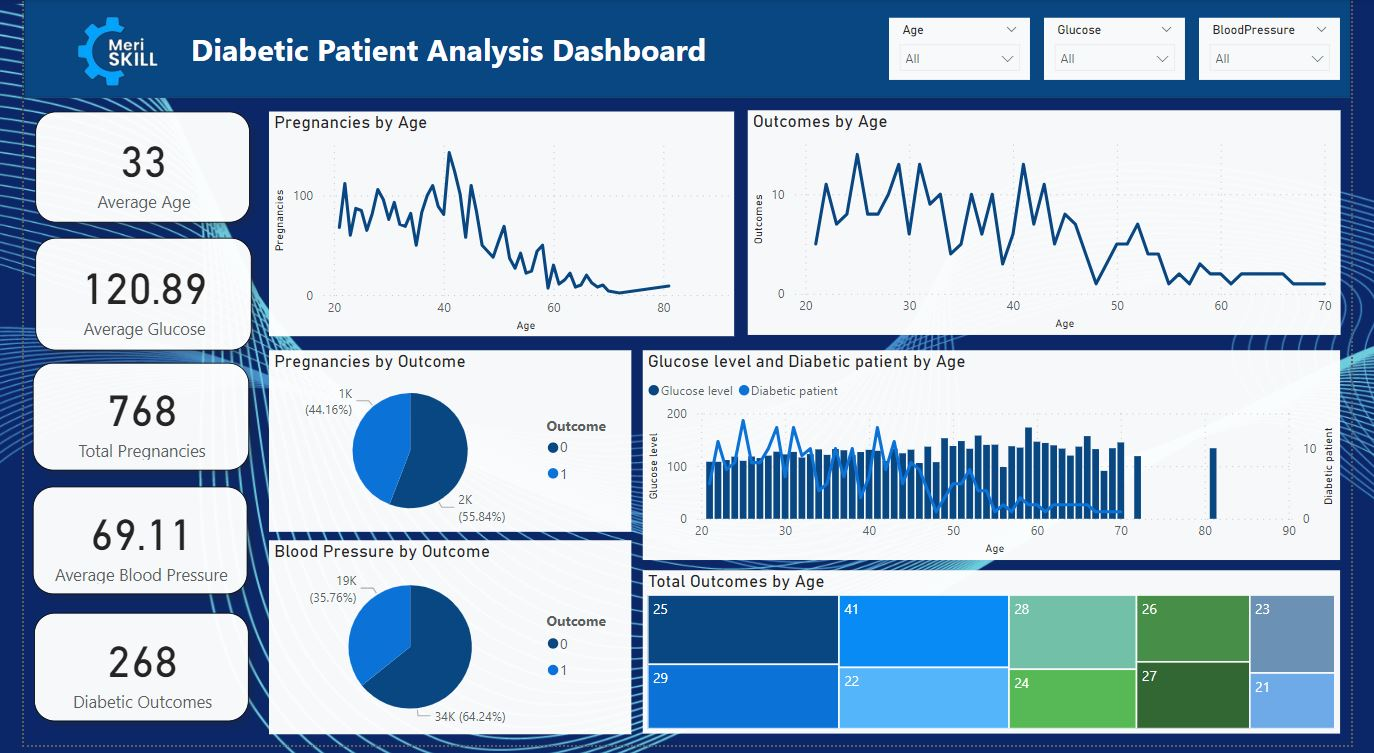

The dashboard page shown, as its layout file describes it:
{"tool":"powerbi","page":{"name":"Page 1","canvas":[1280,720],"ordinal":0},"visuals":[{"type":"card","fields":{"Values":["Avg(diabetes.BloodPressure)"]},"box":[8.4,470.4,207.4,103.7],"z":0},{"type":"card","fields":{"Values":["Avg(diabetes.Glucose)"]},"box":[10.9,230.4,208.6,108.5],"z":1},{"type":"card","fields":{"Values":["CountNonNull(diabetes.Pregnancies)"]},"box":[8.4,351,208.6,103.7],"z":2},{"type":"card","fields":{"Values":["diabetes.Average Age"]},"box":[10.9,108.5,207.4,107.3],"z":3},{"type":"card","fields":{"Values":["diabetes.Total Outcomes"]},"box":[9.6,592.2,207.4,104.9],"z":4},{"type":"shape","box":[0,0,1279.6,95.3],"z":5},{"type":"image","box":[43.4,3.6,94.1,88],"z":6},{"type":"lineChart","fields":{"Y":["Sum(diabetes.Pregnancies)"],"Category":["diabetes.Age"]},"box":[236.4,108.5,448.6,217.1],"z":7},{"type":"lineChart","fields":{"Y":["diabetes.Total Outcomes"],"Category":["diabetes.Age"]},"box":[698.3,107.3,571.7,217.1],"z":8},{"type":"pieChart","fields":{"Y":["Sum(diabetes.Pregnancies)"],"Category":["diabetes.Outcome"]},"box":[236.4,338.9,349.7,174.9],"z":9},{"type":"pieChart","fields":{"Category":["diabetes.Outcome"],"Y":["Sum(diabetes.BloodPressure)"]},"box":[236.4,522.2,349.7,186.9],"z":10},{"type":"lineClusteredColumnComboChart","fields":{"Category":["diabetes.Age"],"Y":["Avg(diabetes.Glucose)"],"Y2":["diabetes.Total Outcomes"]},"box":[597,338.9,673,202.6],"z":11},{"type":"treemap","fields":{"Values":["diabetes.Total Outcomes"],"Group":["diabetes.Age"]},"box":[597,551.2,673,158],"z":12},{"type":"slicer","fields":{"Values":["diabetes.Age"]},"box":[834.6,18.1,136.3,60.3],"z":13},{"type":"slicer","fields":{"Values":["diabetes.Glucose"]},"box":[984.1,18.1,136.3,60.3],"z":14},{"type":"slicer","fields":{"Values":["diabetes.BloodPressure"]},"box":[1133.7,18.1,136.3,60.3],"z":15}]}

Visuals, with their boxes in screenshot pixels (x1, y1, x2, y2), scaled from the page's 1280x720 canvas onto the 1374x753 screenshot:
card - Avg(diabetes.BloodPressure): [left=9, top=492, right=232, bottom=600]
card - Avg(diabetes.Glucose): [left=12, top=241, right=236, bottom=354]
card - CountNonNull(diabetes.Pregnancies): [left=9, top=367, right=233, bottom=476]
card - diabetes.Average Age: [left=12, top=113, right=234, bottom=226]
card - diabetes.Total Outcomes: [left=10, top=619, right=233, bottom=729]
shape: [left=0, top=0, right=1373, bottom=100]
image: [left=47, top=4, right=148, bottom=96]
lineChart - Sum(diabetes.Pregnancies) x diabetes.Age: [left=254, top=113, right=735, bottom=341]
lineChart - diabetes.Total Outcomes x diabetes.Age: [left=750, top=112, right=1363, bottom=339]
pieChart - Sum(diabetes.Pregnancies) x diabetes.Outcome: [left=254, top=354, right=629, bottom=537]
pieChart - diabetes.Outcome x Sum(diabetes.BloodPressure): [left=254, top=546, right=629, bottom=742]
lineClusteredColumnComboChart - diabetes.Age x Avg(diabetes.Glucose): [left=641, top=354, right=1363, bottom=566]
treemap - diabetes.Total Outcomes x diabetes.Age: [left=641, top=576, right=1363, bottom=742]
slicer - diabetes.Age: [left=896, top=19, right=1042, bottom=82]
slicer - diabetes.Glucose: [left=1056, top=19, right=1203, bottom=82]
slicer - diabetes.BloodPressure: [left=1217, top=19, right=1363, bottom=82]
